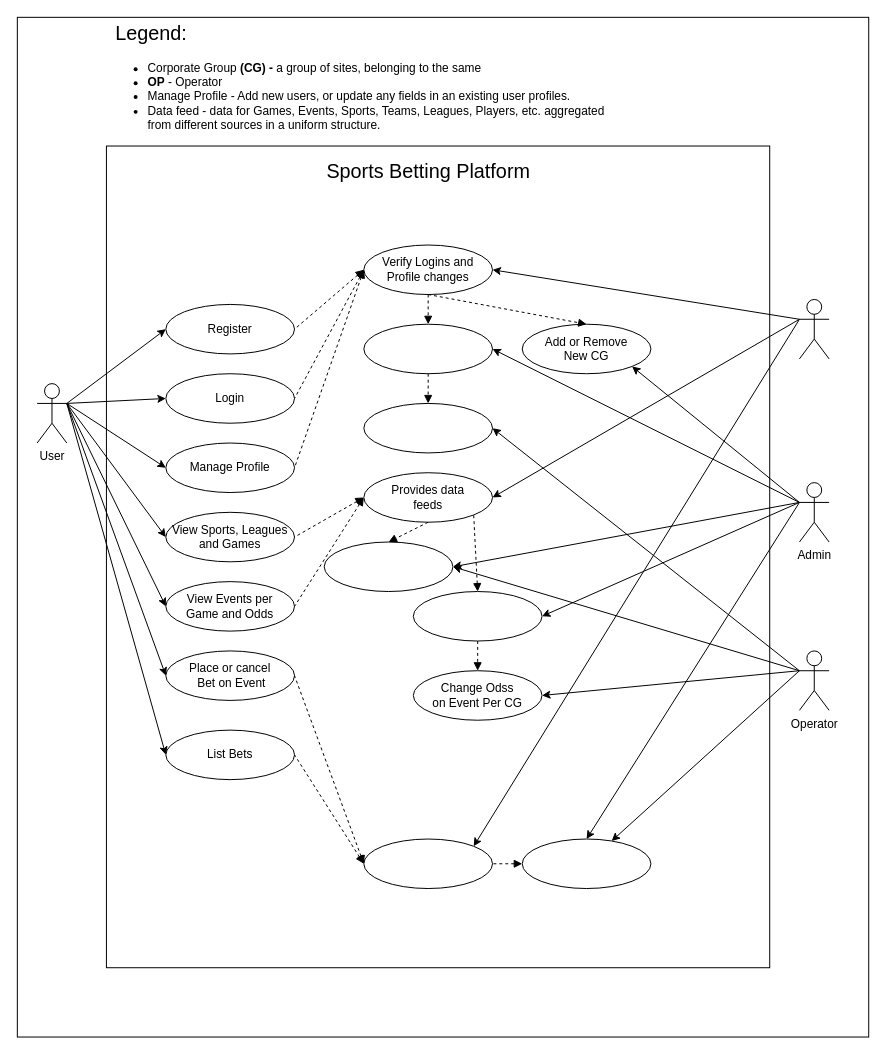
Some shapes in this 886 by 1054 pixel diagram are drawn without their labels. The centre of each missing label's shape, as x and y in pixels:
"Change Odds on Event" belongs at (x=477, y=616).
"Decline or Accept Bet" belongs at (x=586, y=863).
"Freeze Event (per CG if OP)" belongs at (x=388, y=566).
"Manage User Profiles Per CG" belongs at (x=428, y=427).
"Mange All Profiles" belongs at (x=428, y=348).
"Platform" belongs at (x=813, y=328).
"Provides Bets Management" belongs at (x=428, y=863).
